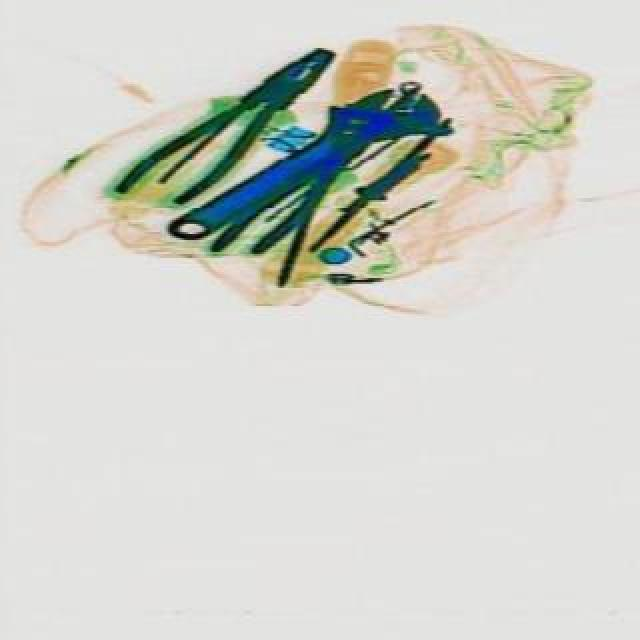scissors: (158, 64, 450, 270)
wrench: (114, 30, 358, 238)
